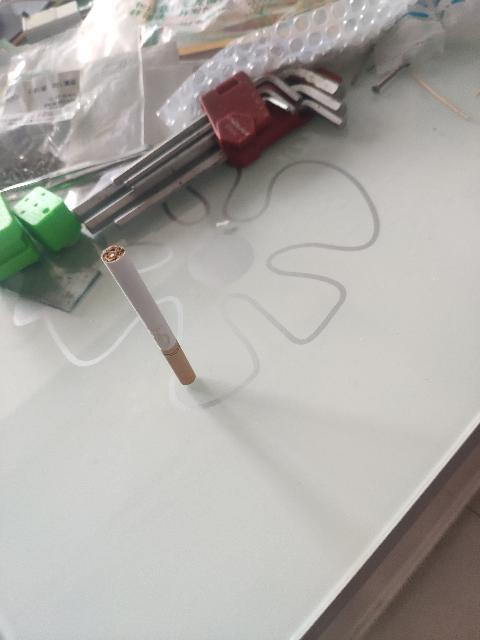Smoking: (103, 244, 198, 386)
